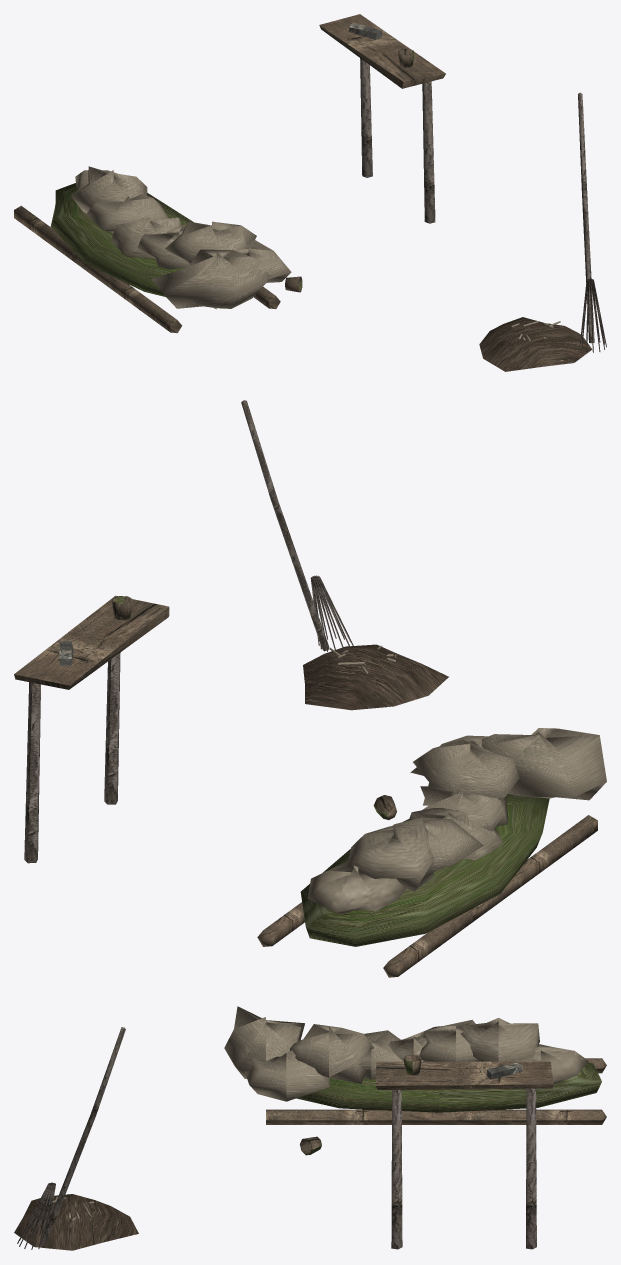
File: kit_tw_hut_rime.glb
The picture shows the model from 3 angles, top to bottom: view 1: azimuth 30°, elevation 25°; view 2: azimuth 150°, elevation 25°; view 3: azimuth 270°, elevation 25°; orthographic projection. The views are drawn at different scales.
Parts seen in each view (by area): view 1: kit_tw_hut_rime; view 2: kit_tw_hut_rime; view 3: kit_tw_hut_rime.
Part boxes in pixels (x1,y1,x2,y2): kit_tw_hut_rime: (14,14,606,371); kit_tw_hut_rime: (14,400,606,977); kit_tw_hut_rime: (14,1006,606,1250).
Bounding box in the file's own units: 2.15 × 1.28 × 2.91.
Materials: 1 (1 with a texture image).
